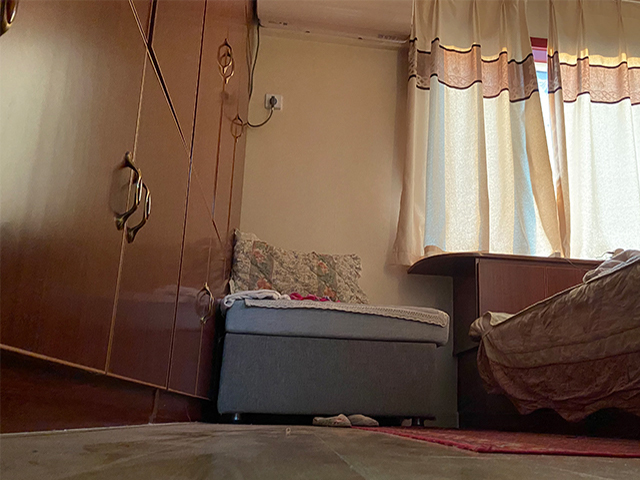bed: (450, 247, 640, 435)
cabinet: (1, 1, 255, 435)
carpet: (359, 425, 640, 459)
curtain: (394, 1, 571, 263), (549, 1, 640, 261)
stool: (216, 293, 451, 427)
